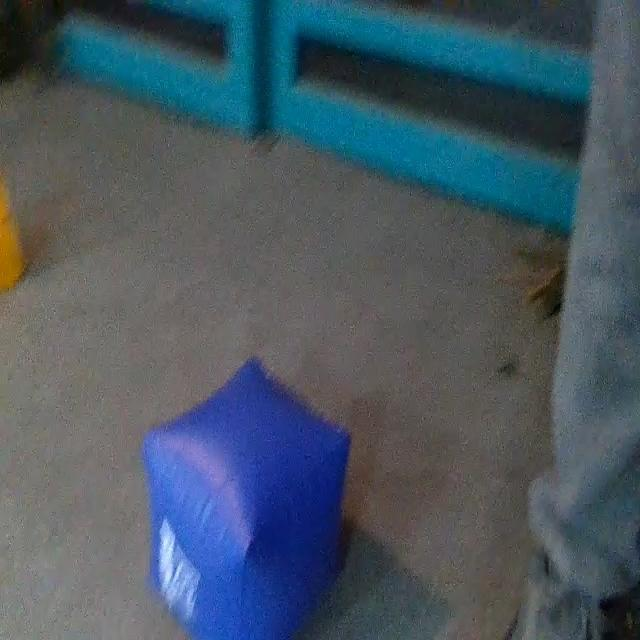cube: (143, 357, 350, 640)
